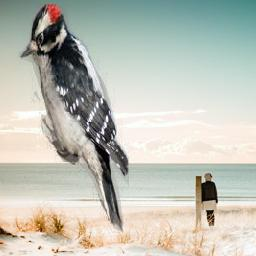Woodpecker: (17, 5, 129, 234)
